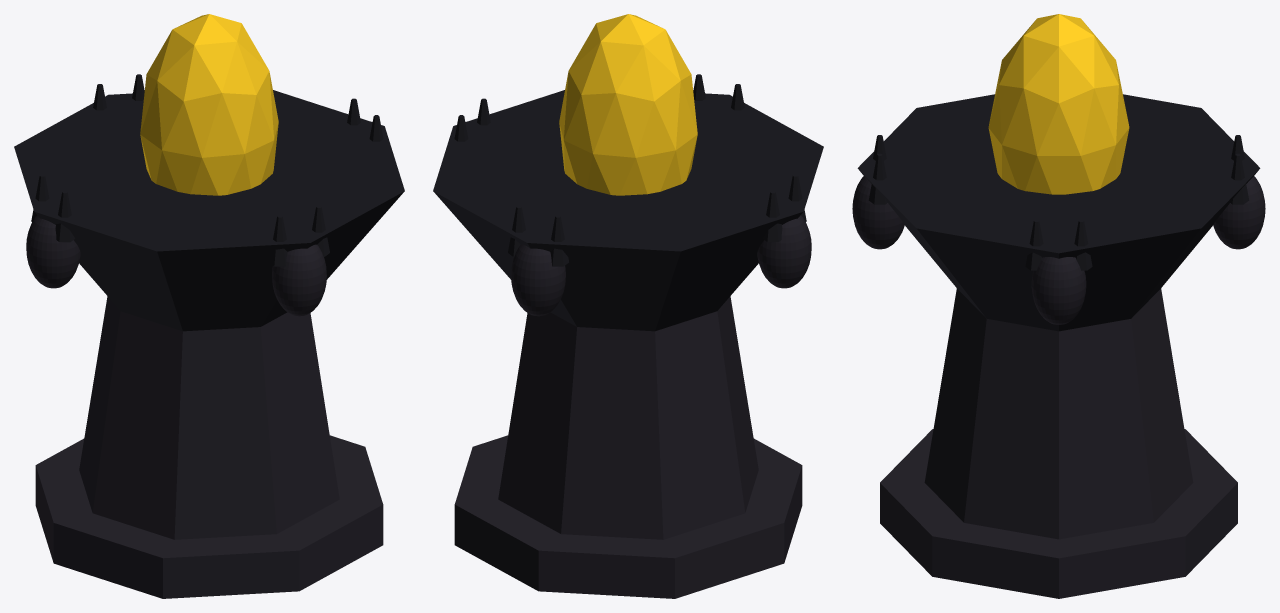
File: volcanic_skull_brazier.obj
3 renders of one model, left to right at view 1: azimuth 30°, elevation 25°; view 2: azimuth 150°, elevation 25°; view 3: azimuth 270°, elevation 25°, orthographic.
Parts seen in each view (by area): view 1: Cone.001, Cone, Cylinder, Icosphere, Sphere.003, Sphere.002, Cone.007, Cone.008; view 2: Cone.001, Cone, Cylinder, Icosphere, Sphere.001, Sphere.002, Cone.006, Cone.005; view 3: Cone, Cone.001, Cylinder, Icosphere, Sphere, Sphere.001, Sphere.003.
Part boxes in pixels (<box>): Cone.001: <box>14,90,404,331</box>; Cone: <box>79,296,339,539</box>; Cylinder: <box>35,435,383,598</box>; Icosphere: <box>140,14,278,195</box>; Sphere.003: <box>272,244,326,316</box>; Sphere.002: <box>26,215,80,288</box>; Cone.007: <box>55,191,74,242</box>; Cone.008: <box>269,215,287,266</box>; Cone.001: <box>433,90,823,331</box>; Cone: <box>498,296,758,539</box>; Cylinder: <box>454,435,802,598</box>; Icosphere: <box>559,14,697,195</box>; Sphere.001: <box>511,244,565,316</box>; Sphere.002: <box>757,215,811,288</box>; Cone.006: <box>763,191,782,242</box>; Cone.005: <box>550,215,568,266</box>; Cone: <box>924,288,1193,539</box>; Cone.001: <box>857,94,1260,331</box>; Cylinder: <box>880,429,1237,598</box>; Icosphere: <box>988,14,1129,194</box>; Sphere: <box>1031,257,1086,324</box>; Sphere.001: <box>1213,176,1265,249</box>; Sphere.003: <box>852,176,904,249</box>.
Bounding box in the file's own units: 7.38 × 10.04 × 7.38.
